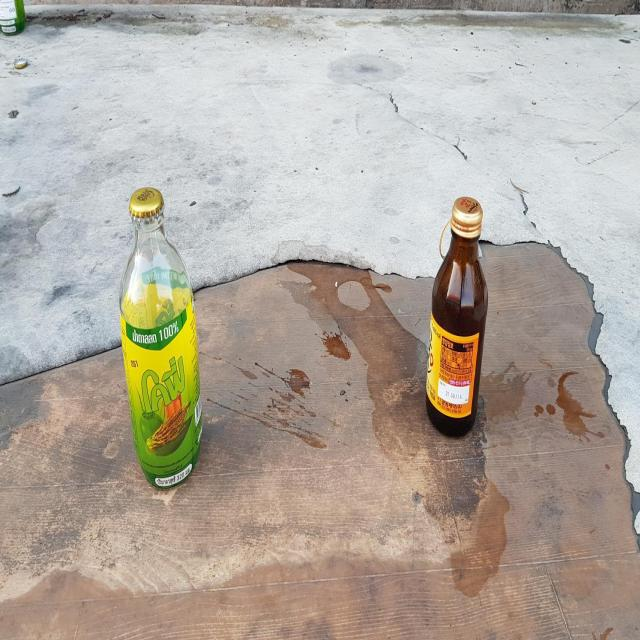glass: (119, 187, 202, 487), (426, 196, 489, 435)
